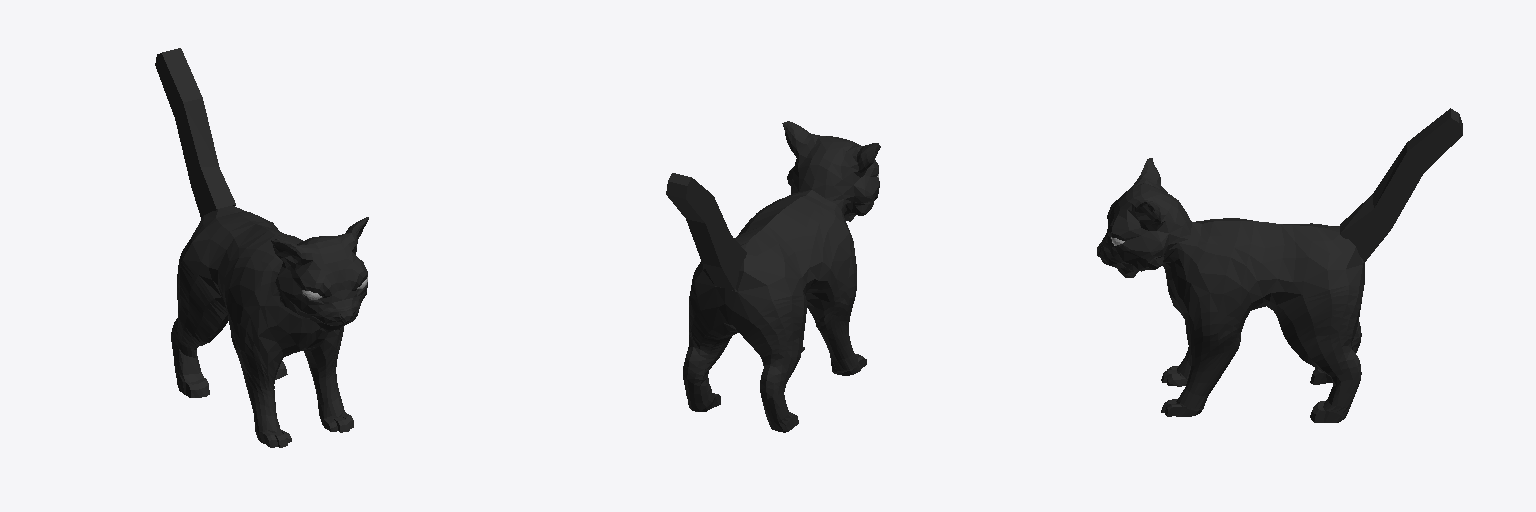
Rendered from cat.obj.
The picture shows the model from 3 angles: view 1: azimuth 30°, elevation 25°; view 2: azimuth 150°, elevation 25°; view 3: azimuth 270°, elevation 25°; orthographic projection.
Parts seen in each view (by area): view 1: Cat_GRpCat_Body1 Cat; view 2: Cat_GRpCat_Body1 Cat; view 3: Cat_GRpCat_Body1 Cat.
Part boxes in pixels (x1,y1,x2,y2): Cat_GRpCat_Body1 Cat: (155, 48, 368, 447); Cat_GRpCat_Body1 Cat: (666, 121, 880, 432); Cat_GRpCat_Body1 Cat: (1097, 108, 1462, 422).
Size of the model in its own units: 17.08 by 45.45 by 52.7.